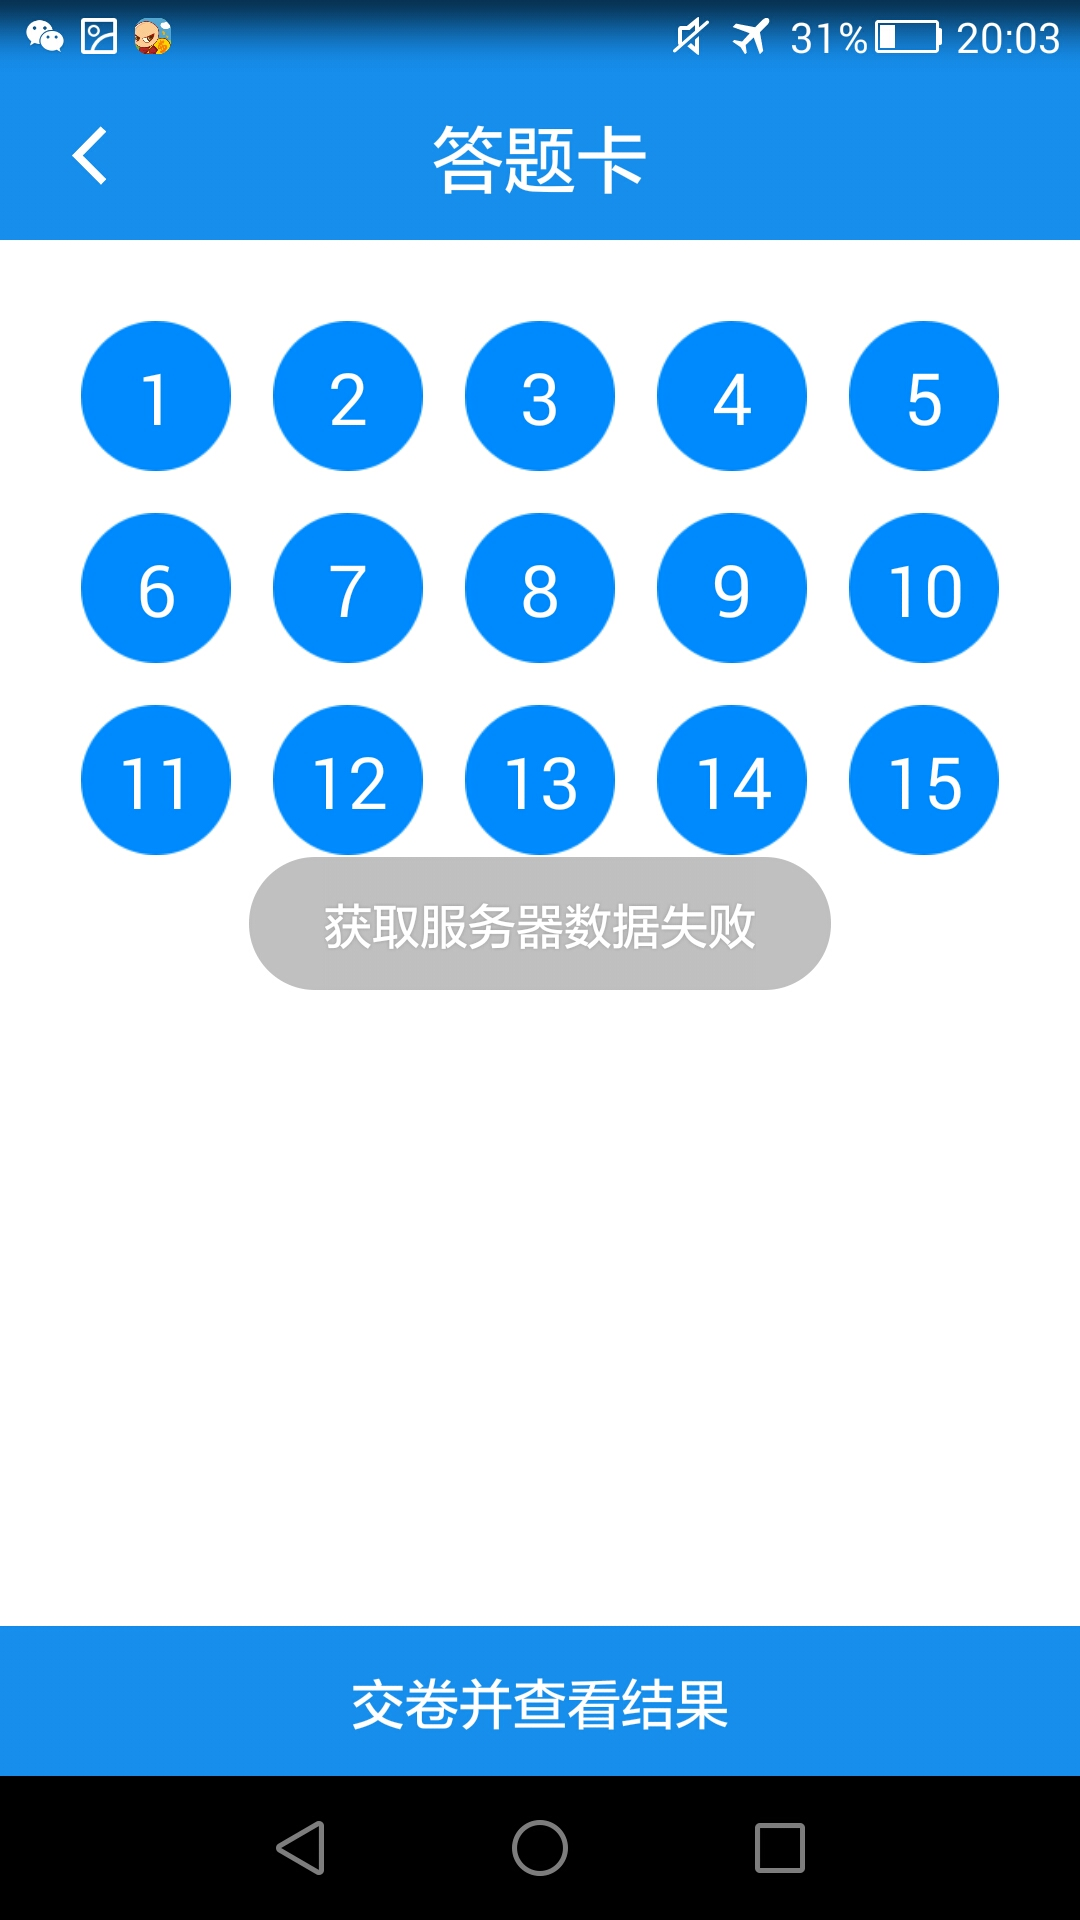alert: (239, 853, 843, 998)
imgbutton: (69, 306, 243, 484), (465, 294, 624, 488), (265, 302, 429, 477), (649, 313, 825, 473)
